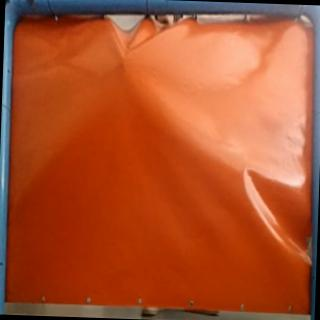Hit-hRxx: (117, 52, 129, 66)
